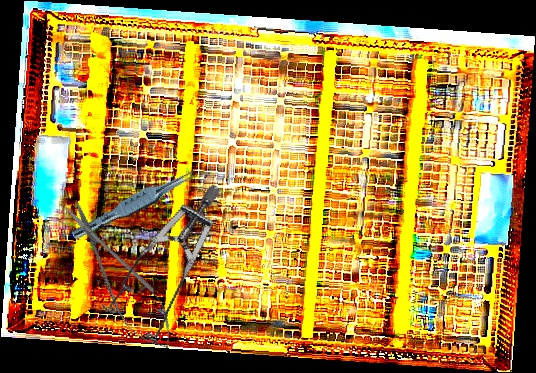Micro Scissor: (51, 191, 187, 361)
Speculum: (75, 182, 268, 359)
Tissue Forceps: (70, 161, 200, 248)
